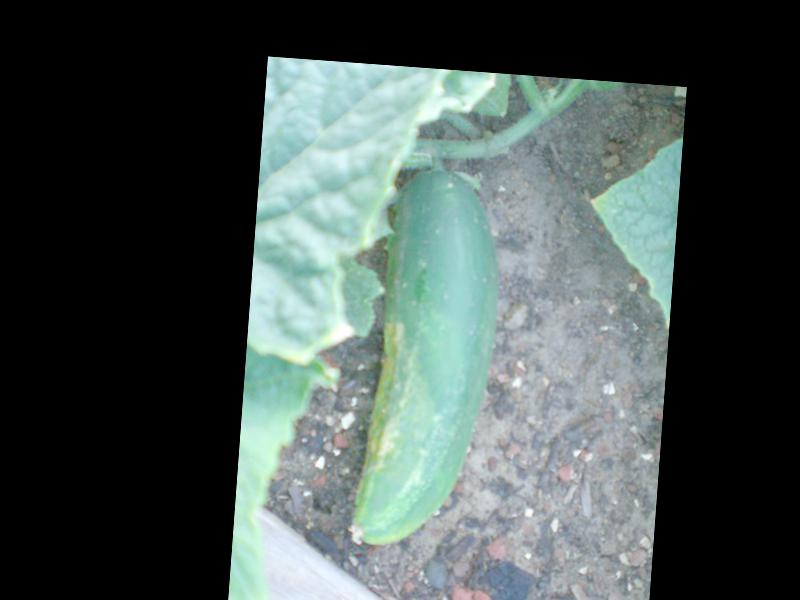Cucumber: (348, 166, 505, 552)
